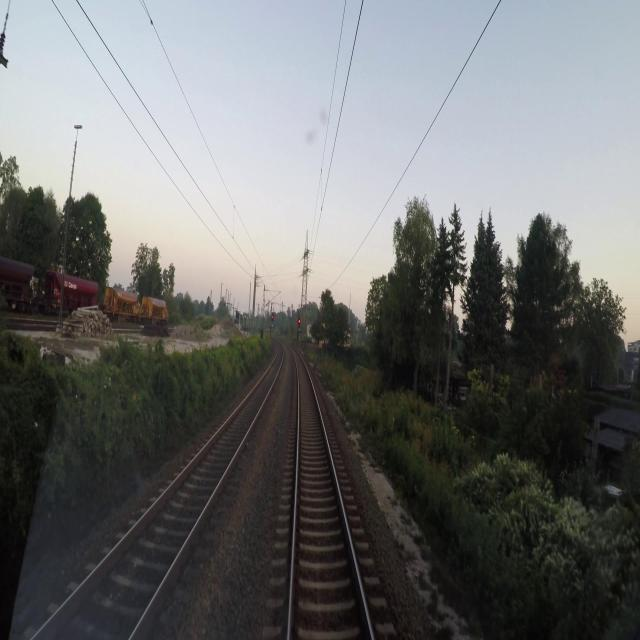rail-track: (36, 344, 281, 639), (290, 353, 369, 639)
